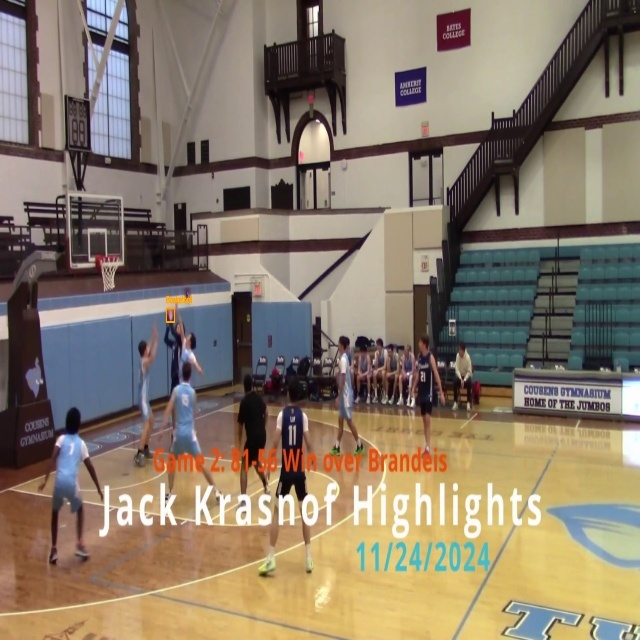Basketball: (166, 308, 175, 322)
